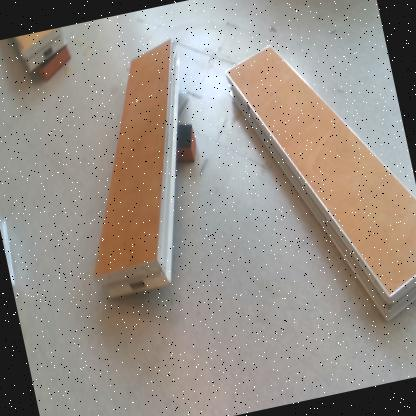Stairs: (225, 44, 416, 325), (94, 39, 181, 300), (14, 28, 67, 73), (1, 212, 16, 291)
